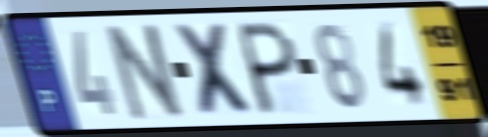4: (378, 20, 428, 109), (71, 28, 116, 118)
8: (313, 20, 368, 112)
N: (103, 20, 190, 124)
P: (236, 18, 300, 118)
X: (169, 21, 262, 119)
